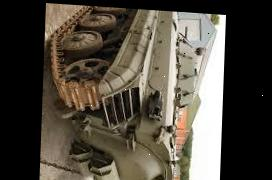tank: (48, 4, 193, 180)
